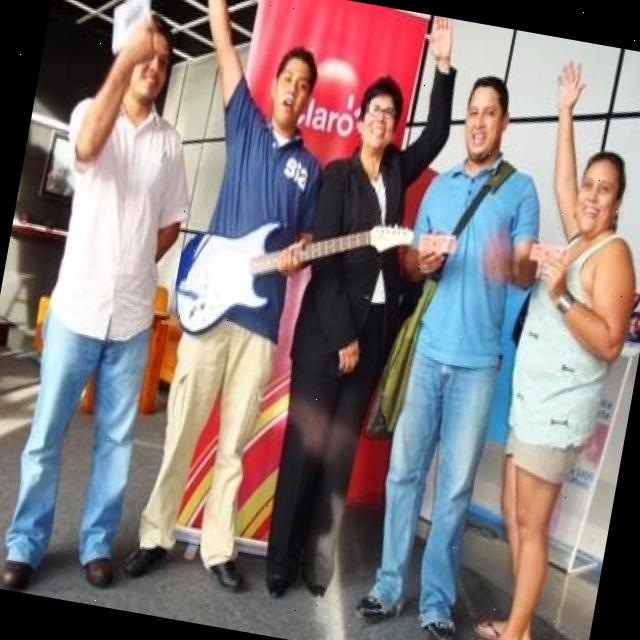guitar: (168, 178, 418, 372)
